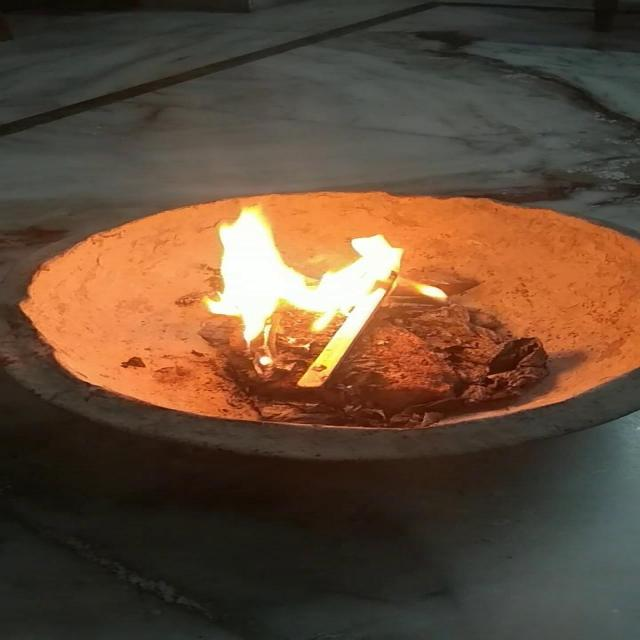fire: (168, 173, 453, 370)
